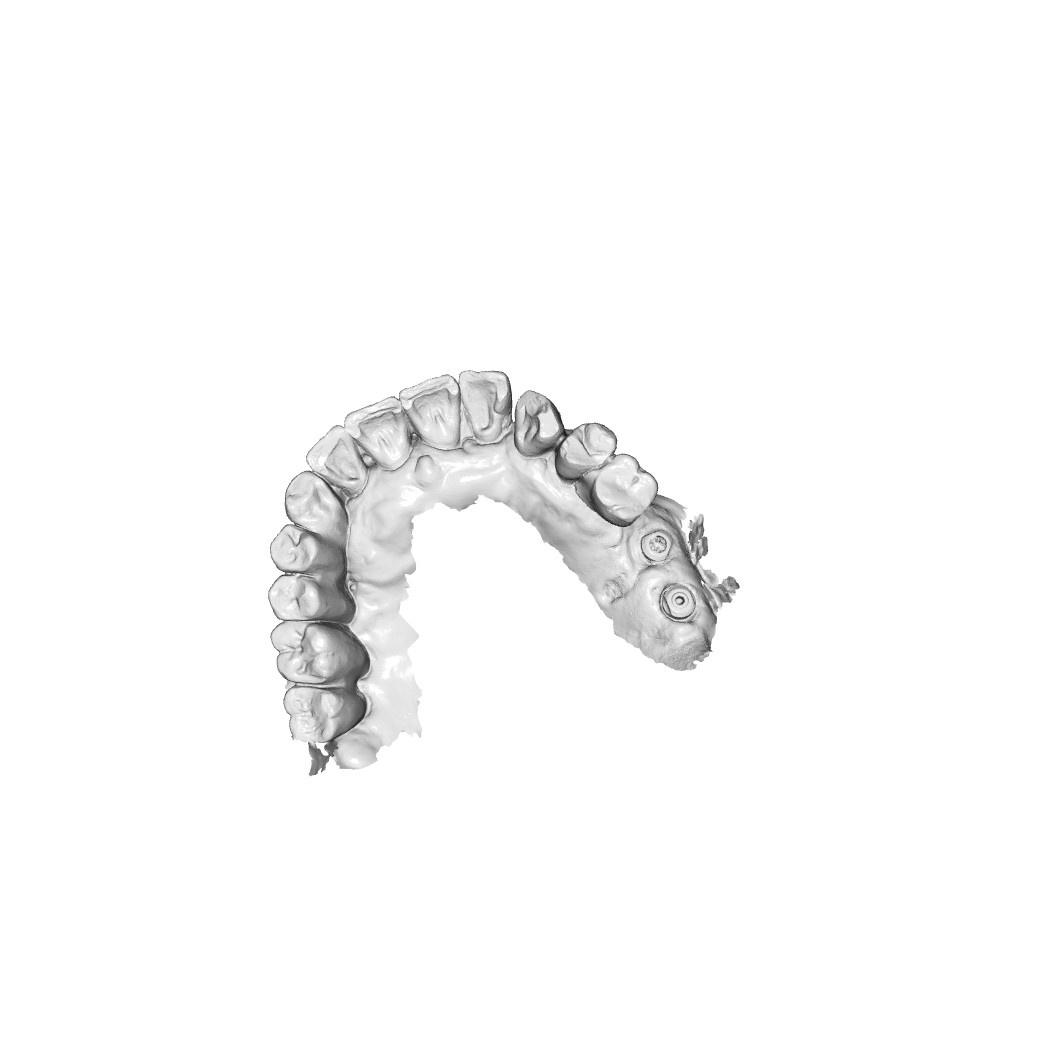canine: (283, 468, 350, 532), (511, 386, 567, 457)
implant: (638, 524, 676, 567), (658, 582, 696, 624)
incisor: (341, 393, 415, 472), (396, 372, 465, 451), (304, 422, 369, 494), (454, 364, 510, 446)
molar: (267, 619, 367, 687), (592, 451, 661, 528), (280, 684, 365, 740)
premolar: (553, 418, 620, 483), (267, 573, 340, 621), (268, 524, 336, 573)
